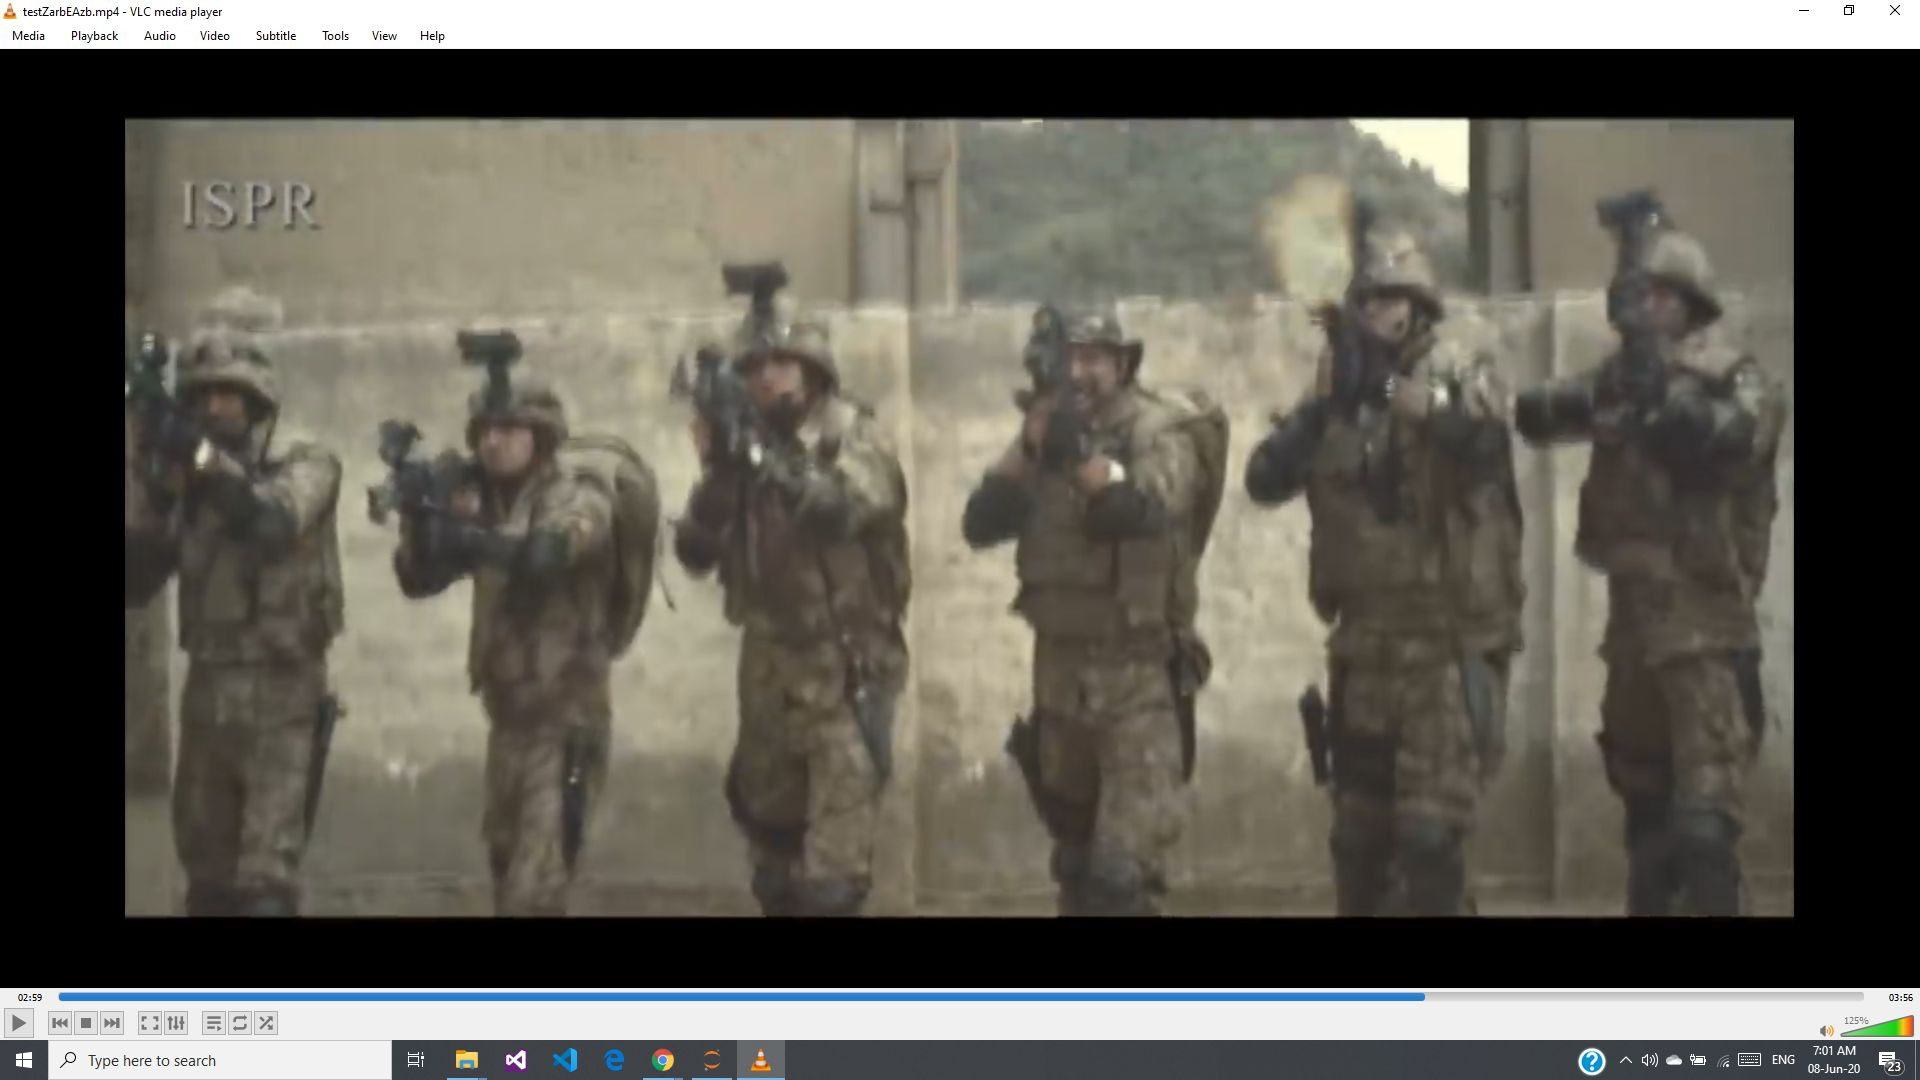gun: (1549, 252, 1717, 462), (1280, 269, 1455, 447), (971, 309, 1108, 483), (113, 309, 218, 513), (332, 400, 475, 547), (650, 327, 779, 487)
uniform: (1261, 207, 1524, 909), (1532, 200, 1768, 913), (1000, 276, 1208, 898), (698, 290, 899, 881), (160, 326, 340, 923), (440, 320, 617, 910)
